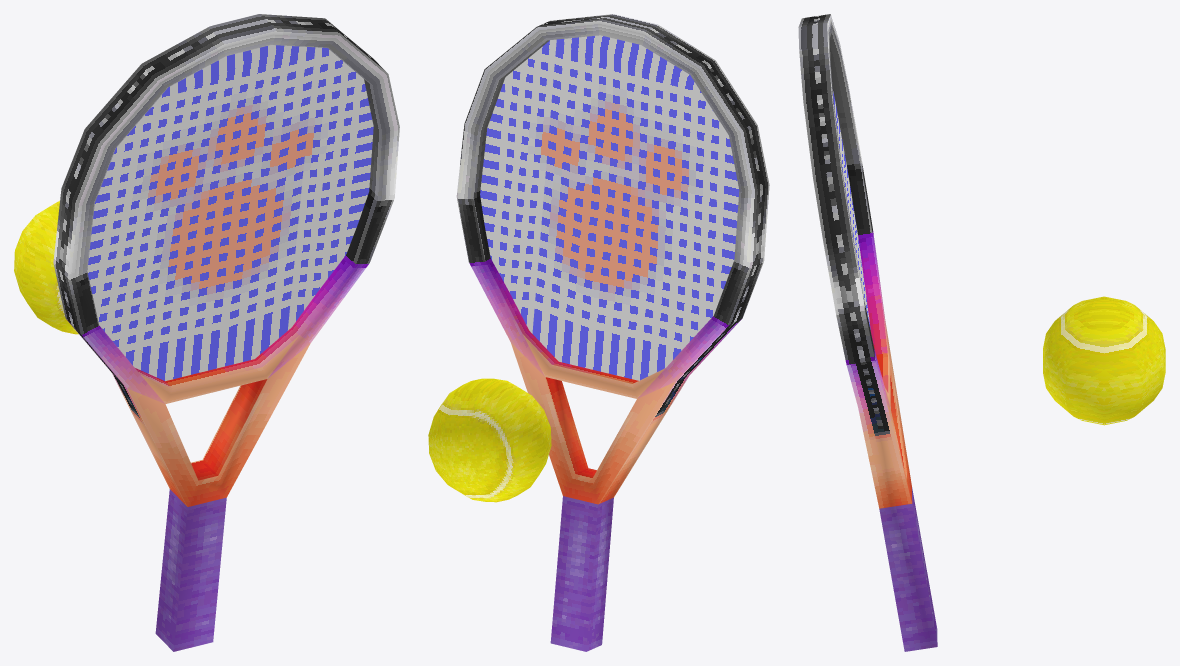
The model's file is ps2_save-icons_wtatourtennis.glb.
The picture shows the model from 3 angles, left to right: view 1: azimuth 30°, elevation 25°; view 2: azimuth 150°, elevation 25°; view 3: azimuth 270°, elevation 25°; orthographic projection. The views are drawn at different scales.
Parts seen in each view (by area): view 1: static.ico; view 2: static.ico; view 3: static.ico.
Part boxes in pixels (bbox=[...]): static.ico: bbox=[14, 14, 399, 651]; static.ico: bbox=[428, 14, 769, 651]; static.ico: bbox=[798, 14, 1165, 651].
Size of the model in its own units: 1.83 by 3.52 by 1.92.
1 material, 1 textured.
